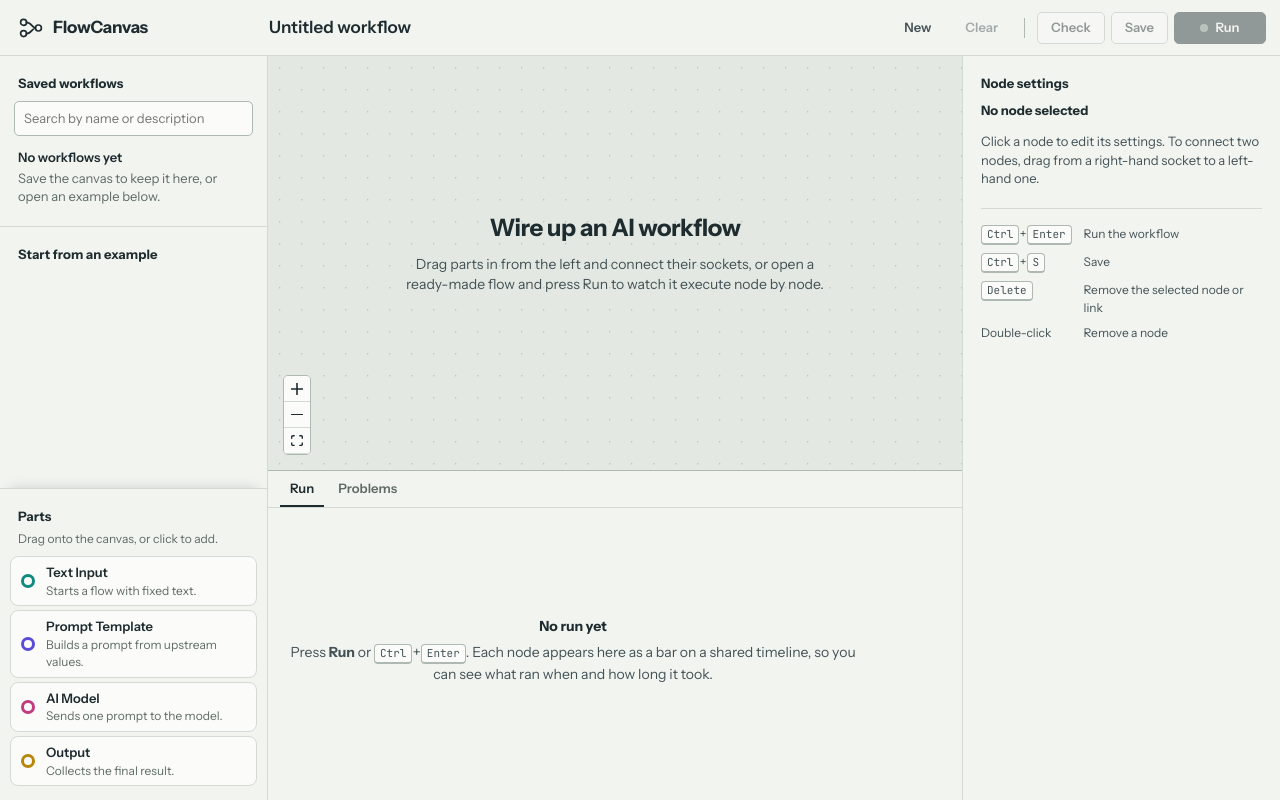
Test case: App › saves a workflow and confirms with a toast
This screenshot has width=1280, height=800.
Click the button with test id "add-node-TEXT_INPUT" at {"x": 134, "y": 581}, box [10,556,257,606]
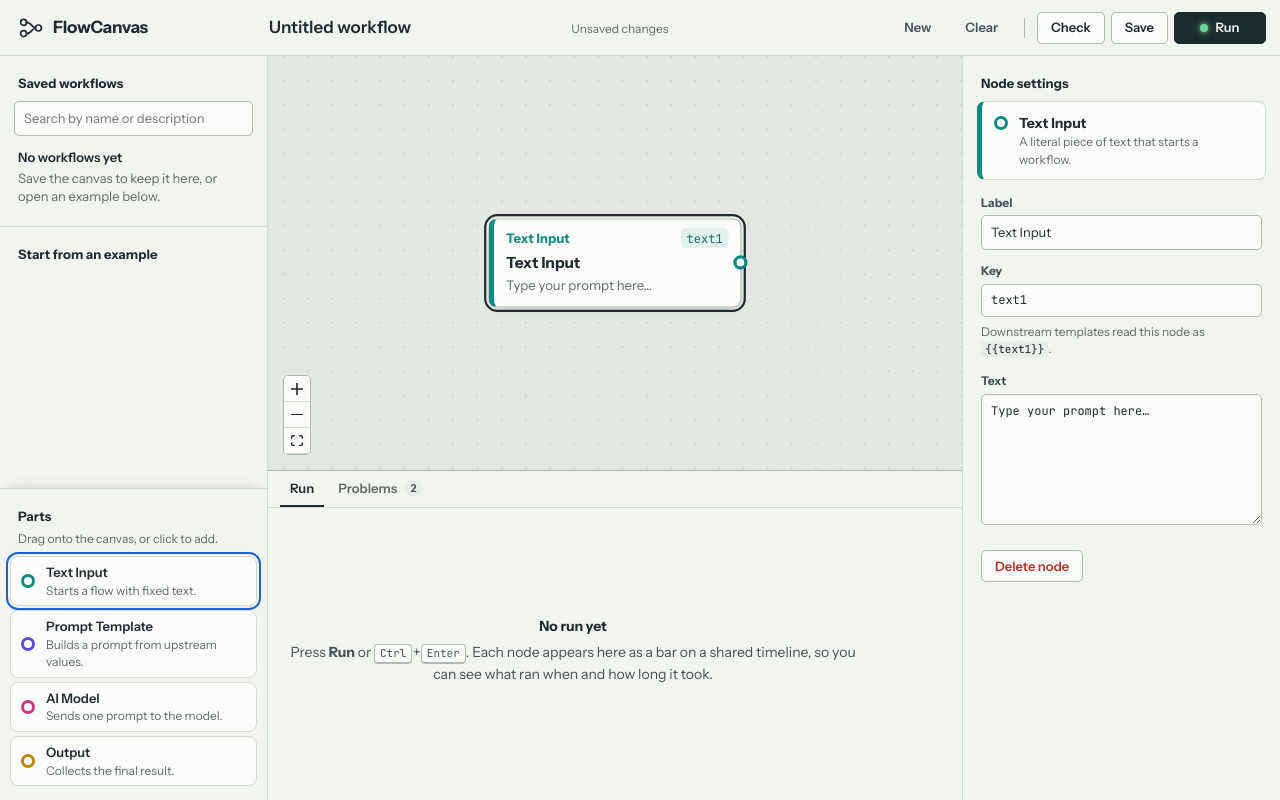
Click the button with test id "save-workflow" at {"x": 1139, "y": 28}, box [1111,12,1168,44]
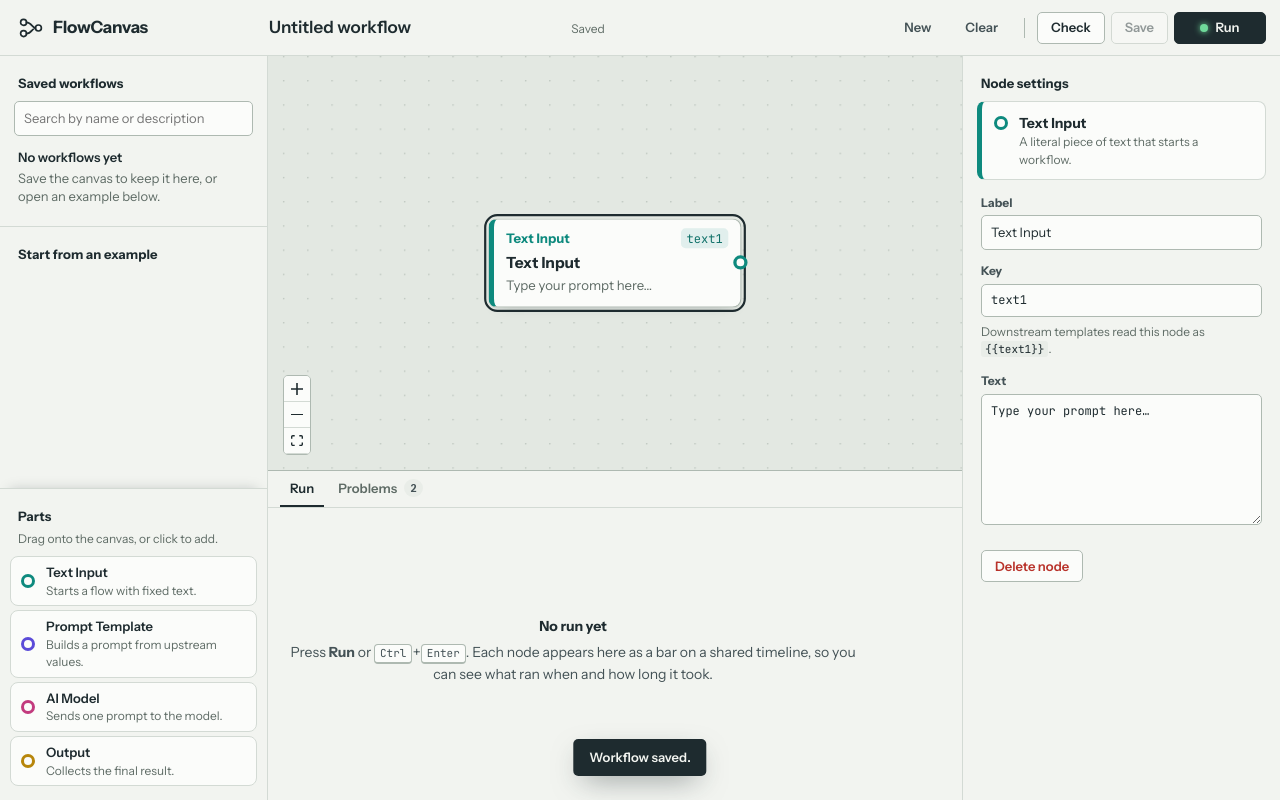
expect the message with test id "toast" reads "Workflow saved.": met, box [589,749,691,765]
